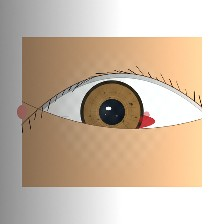hemorrhage_spot: (69, 82, 169, 161)
